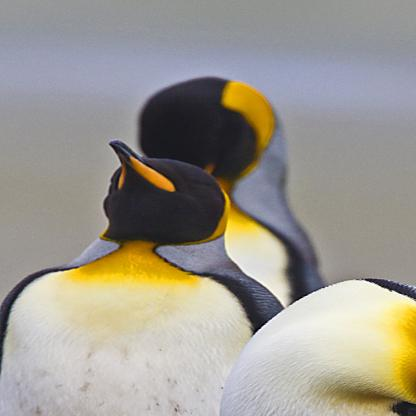Penguin: (0, 138, 333, 415), (69, 73, 354, 385), (204, 260, 416, 416)
